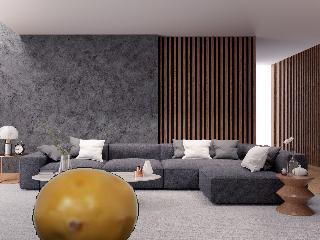potato: (32, 167, 138, 240)
